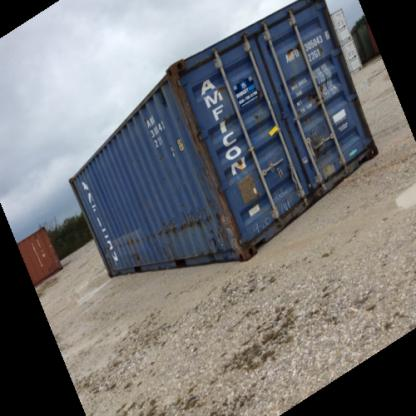Damage: (169, 69, 202, 132), (146, 214, 221, 233), (251, 198, 291, 232), (301, 122, 334, 160), (300, 76, 333, 109), (285, 38, 331, 56), (114, 234, 144, 261), (211, 82, 230, 99), (228, 152, 246, 168)
